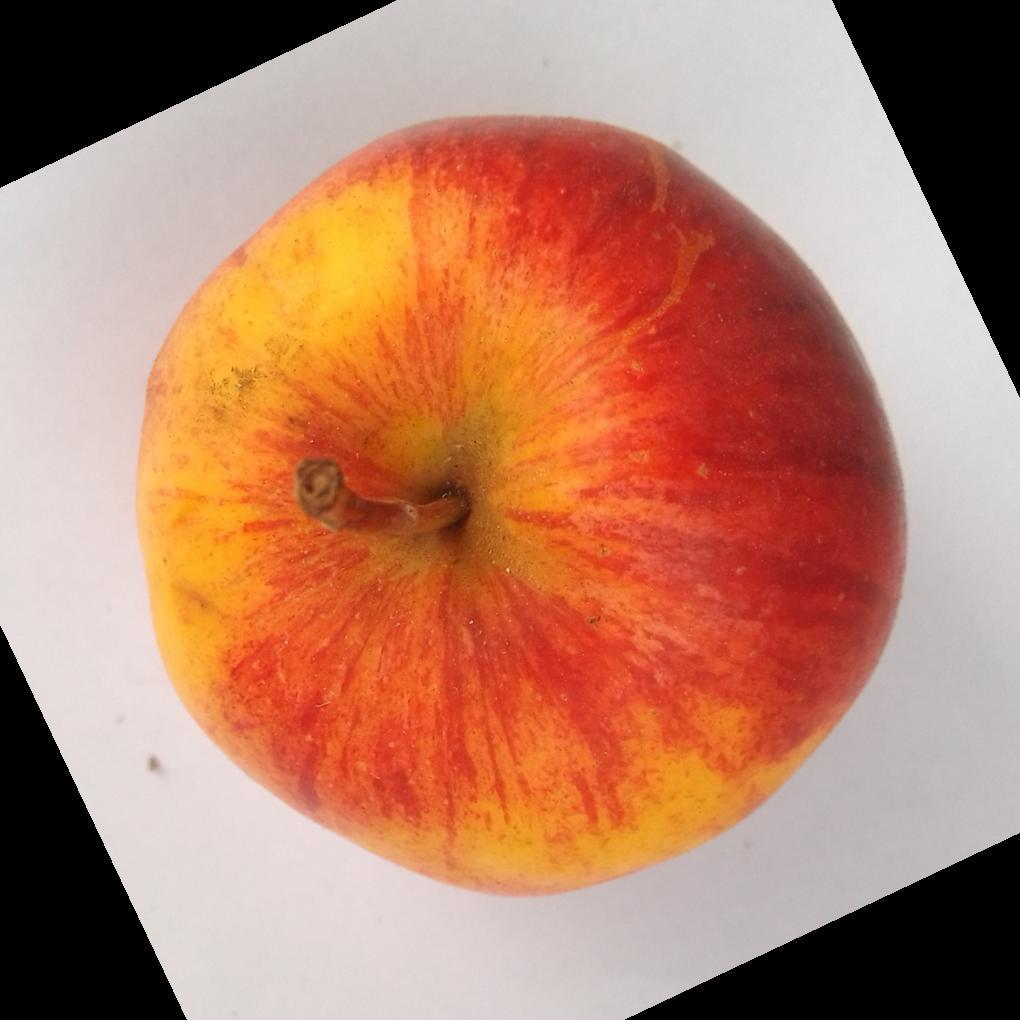FreshGuava: (133, 117, 909, 900)
